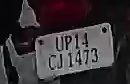1: (74, 33, 81, 49), (67, 52, 73, 68)
3: (89, 46, 100, 63)
4: (81, 30, 90, 49), (75, 48, 83, 67)
7: (83, 49, 90, 67)
C: (49, 54, 57, 70)
J: (55, 51, 65, 70)
P: (64, 33, 72, 51)
U: (54, 36, 65, 53)
